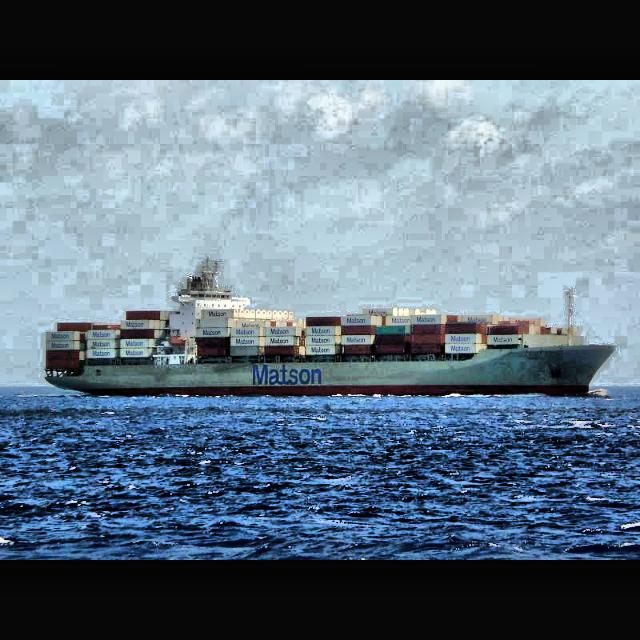container: (44, 257, 618, 399)
